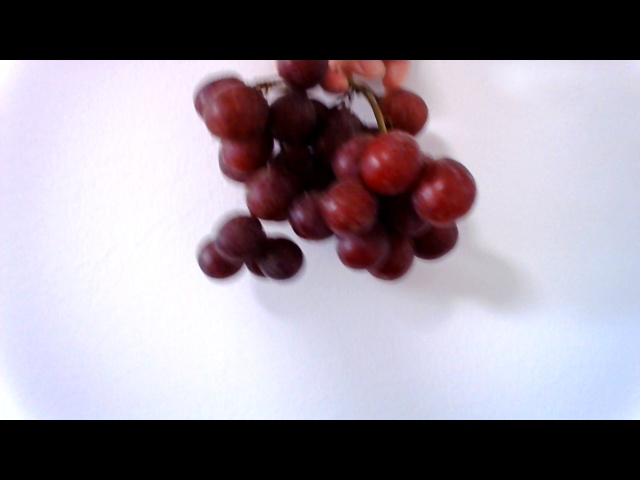grape: (167, 64, 493, 288)
